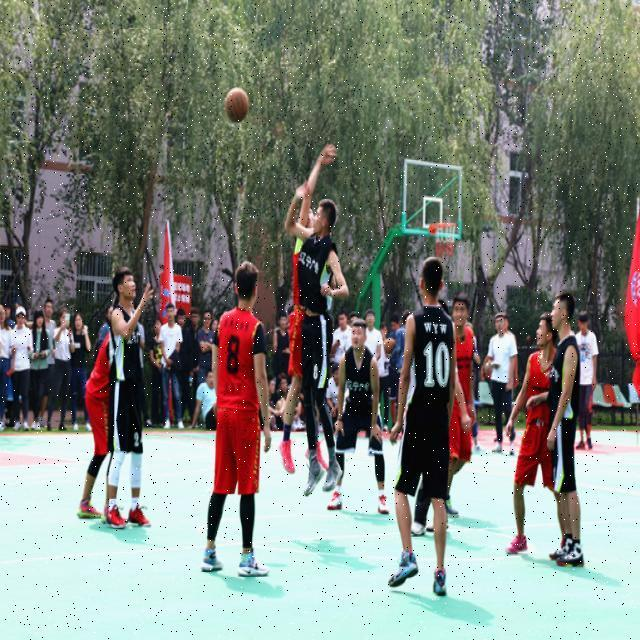ball: (226, 87, 250, 122)
hoop: (427, 221, 464, 229)
